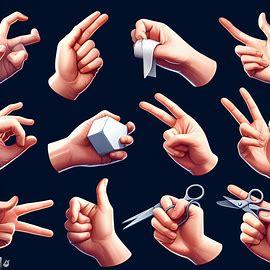Scissor: (134, 89, 226, 179), (217, 80, 270, 183), (0, 192, 59, 255)
Stone: (147, 189, 216, 270)
